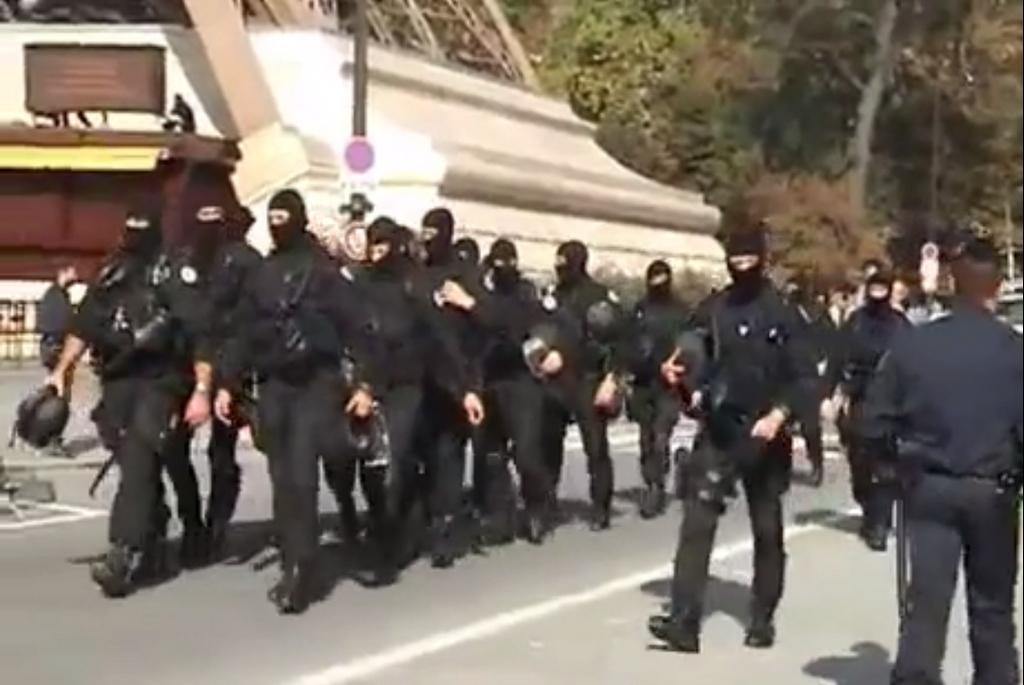face: (194, 200, 229, 237), (727, 250, 763, 284), (936, 262, 962, 305), (125, 212, 152, 248), (367, 237, 394, 272), (268, 206, 294, 240), (423, 221, 447, 255), (493, 250, 517, 278), (555, 251, 577, 281), (867, 281, 891, 305), (348, 229, 369, 256), (647, 270, 670, 294), (453, 246, 473, 270), (391, 240, 411, 261), (892, 281, 909, 300)
